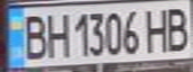0: (103, 8, 124, 56)
1: (69, 9, 90, 57)
3: (87, 9, 106, 56)
6: (121, 7, 145, 55)
B: (18, 10, 51, 61), (163, 3, 193, 52)
H: (142, 4, 172, 54), (42, 10, 69, 60)
